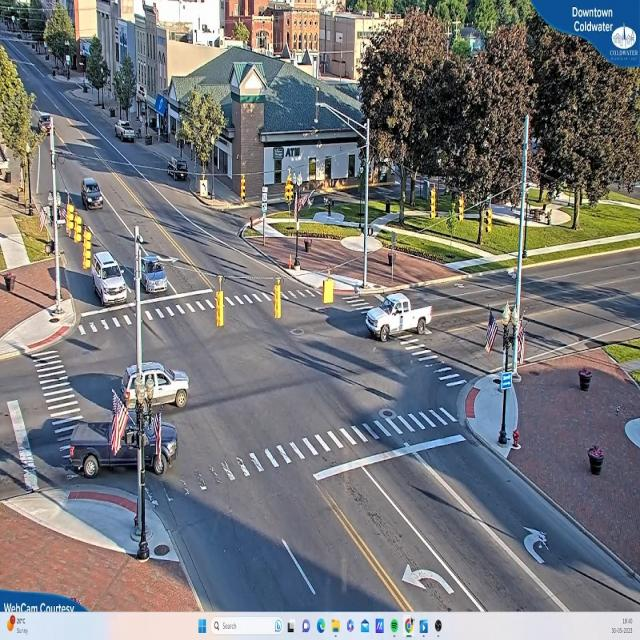car: (71, 420, 178, 480), (125, 362, 191, 412), (364, 294, 430, 344), (91, 248, 124, 306), (142, 253, 170, 298), (82, 178, 105, 211), (164, 158, 190, 180)
